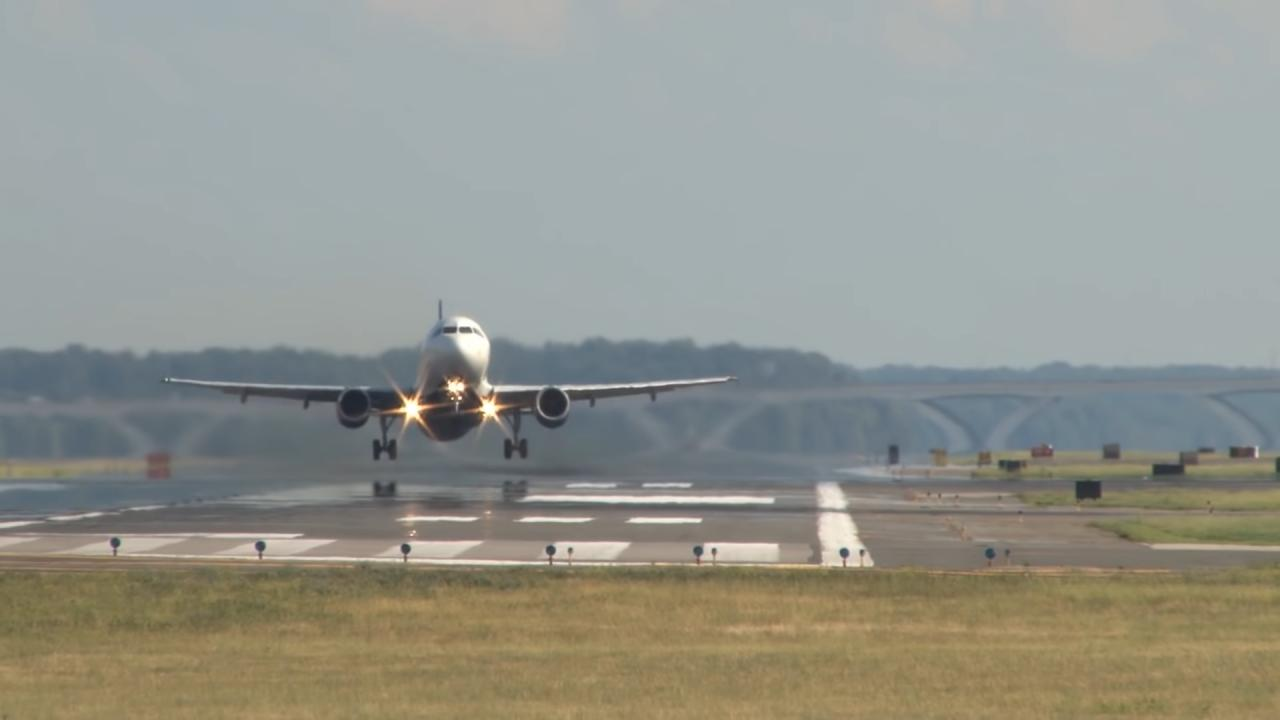Airplane: (153, 286, 747, 474)
